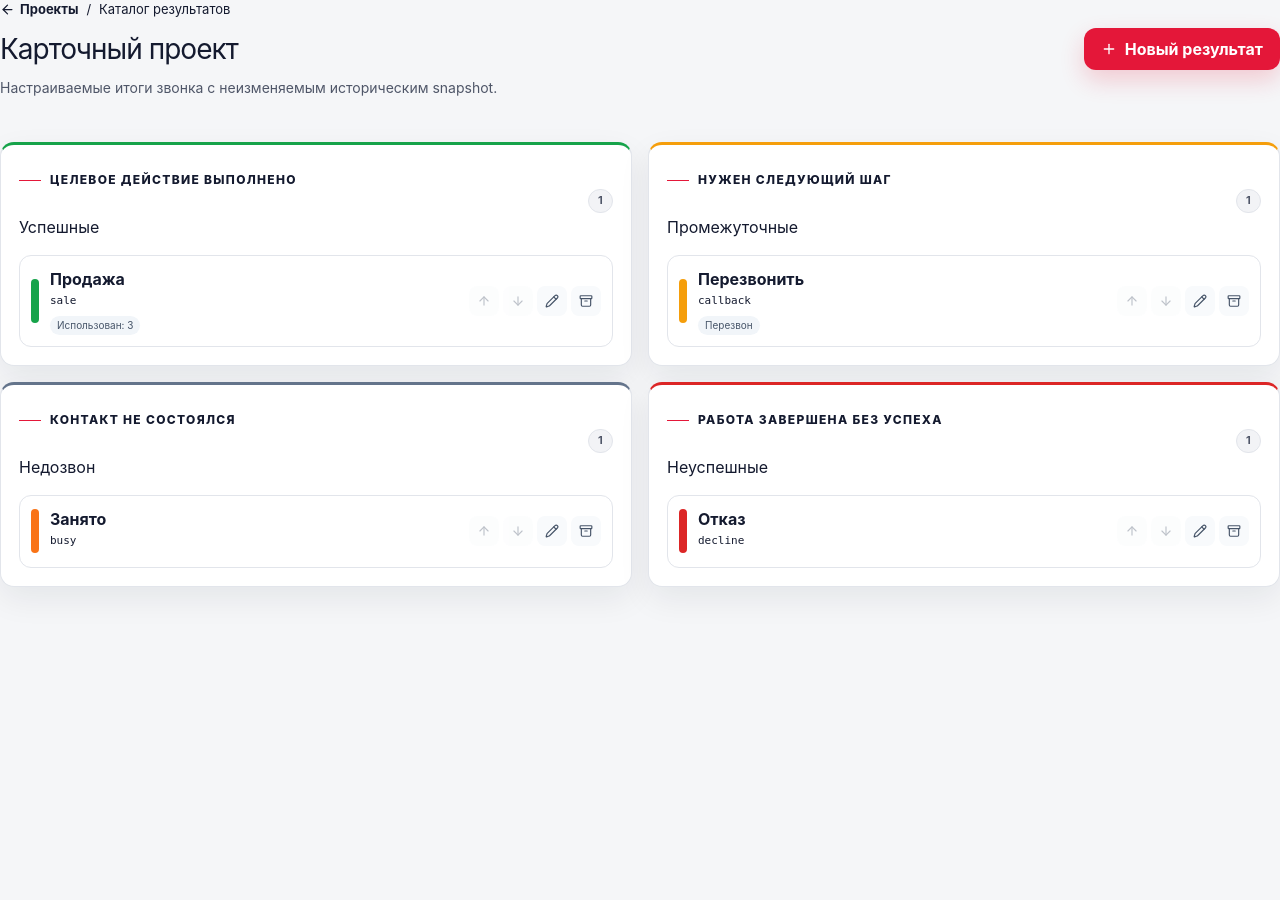
Test: project call result catalog › renders all four categories and warns about immutable history
Check: the heading "Карточный проект" is shown, box [0,32,238,66]
Check: the heading "Успешные" is shown, box [19,217,99,237]
What coordinates should you click on to do the following:
click the button named "Редактировать" in the row of "Продажа"
I would click on:
 (552, 301)
Its box is [537,286,567,316].
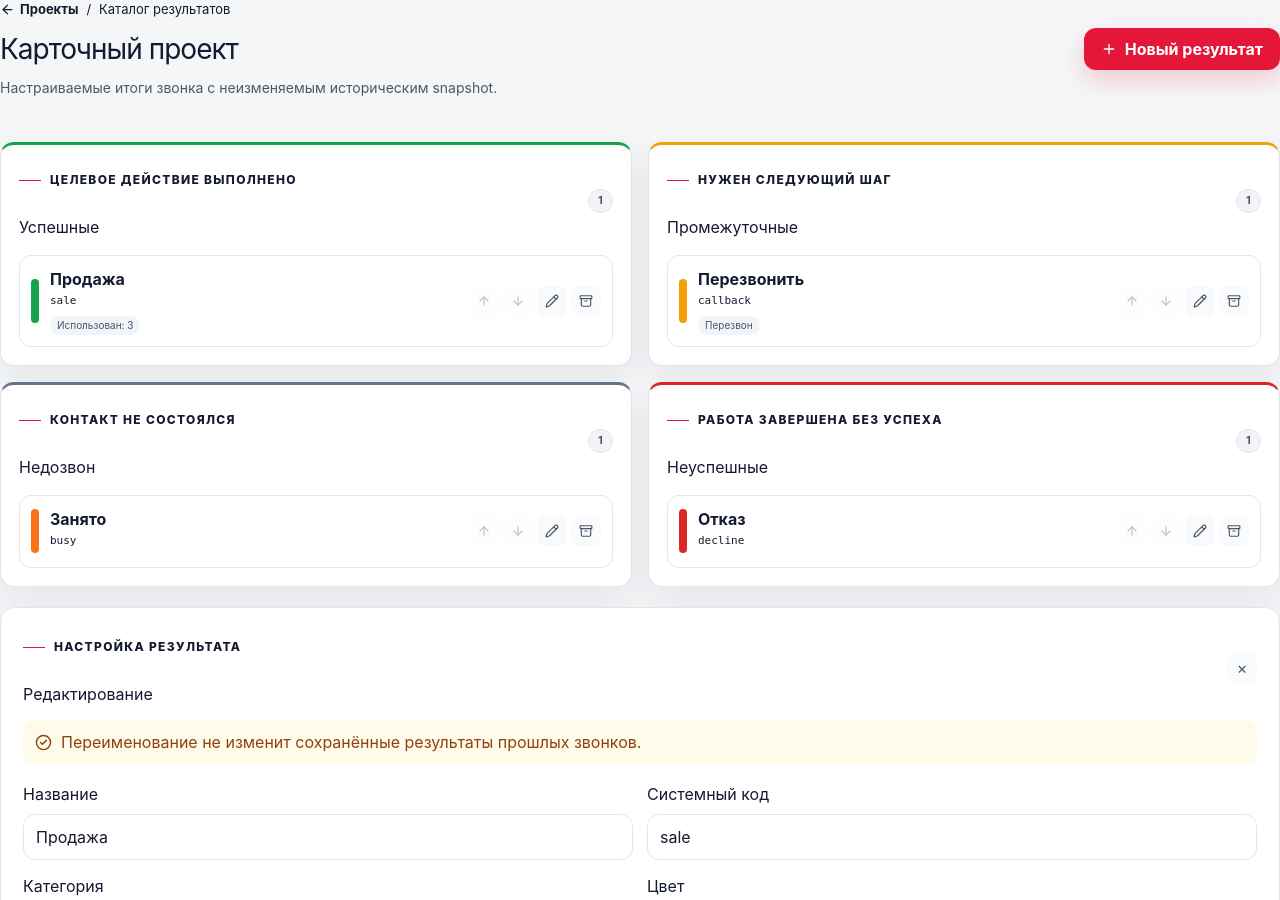
Check: the text "Переименование не изменит сохранённые результаты" is shown, box [61,732,641,752]
